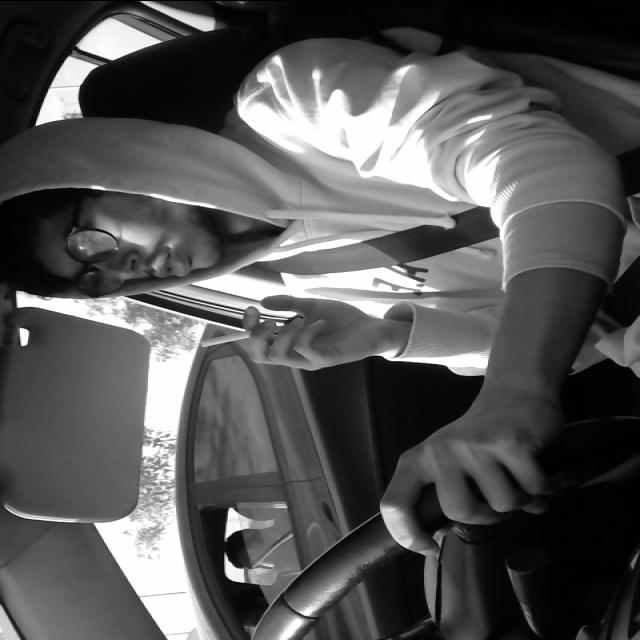smoking: (196, 315, 300, 351)
